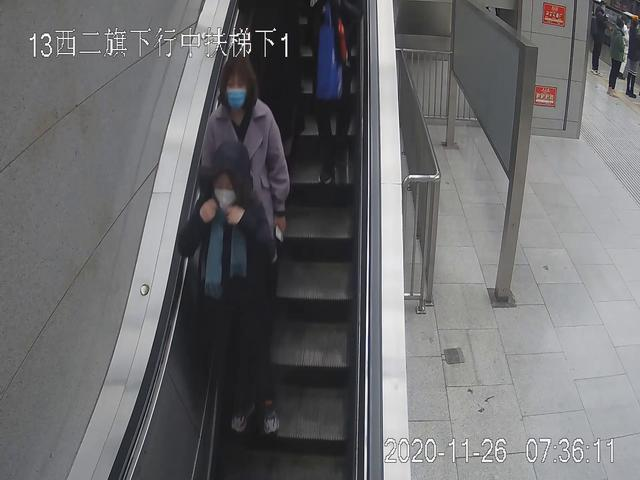person: (177, 145, 280, 440), (203, 54, 290, 350), (310, 1, 359, 182), (608, 20, 624, 93), (590, 2, 605, 76)
